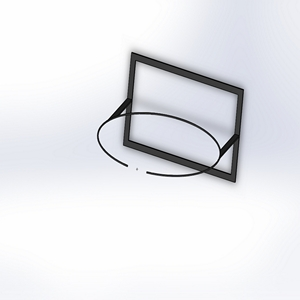circle: (95, 50, 245, 184)
